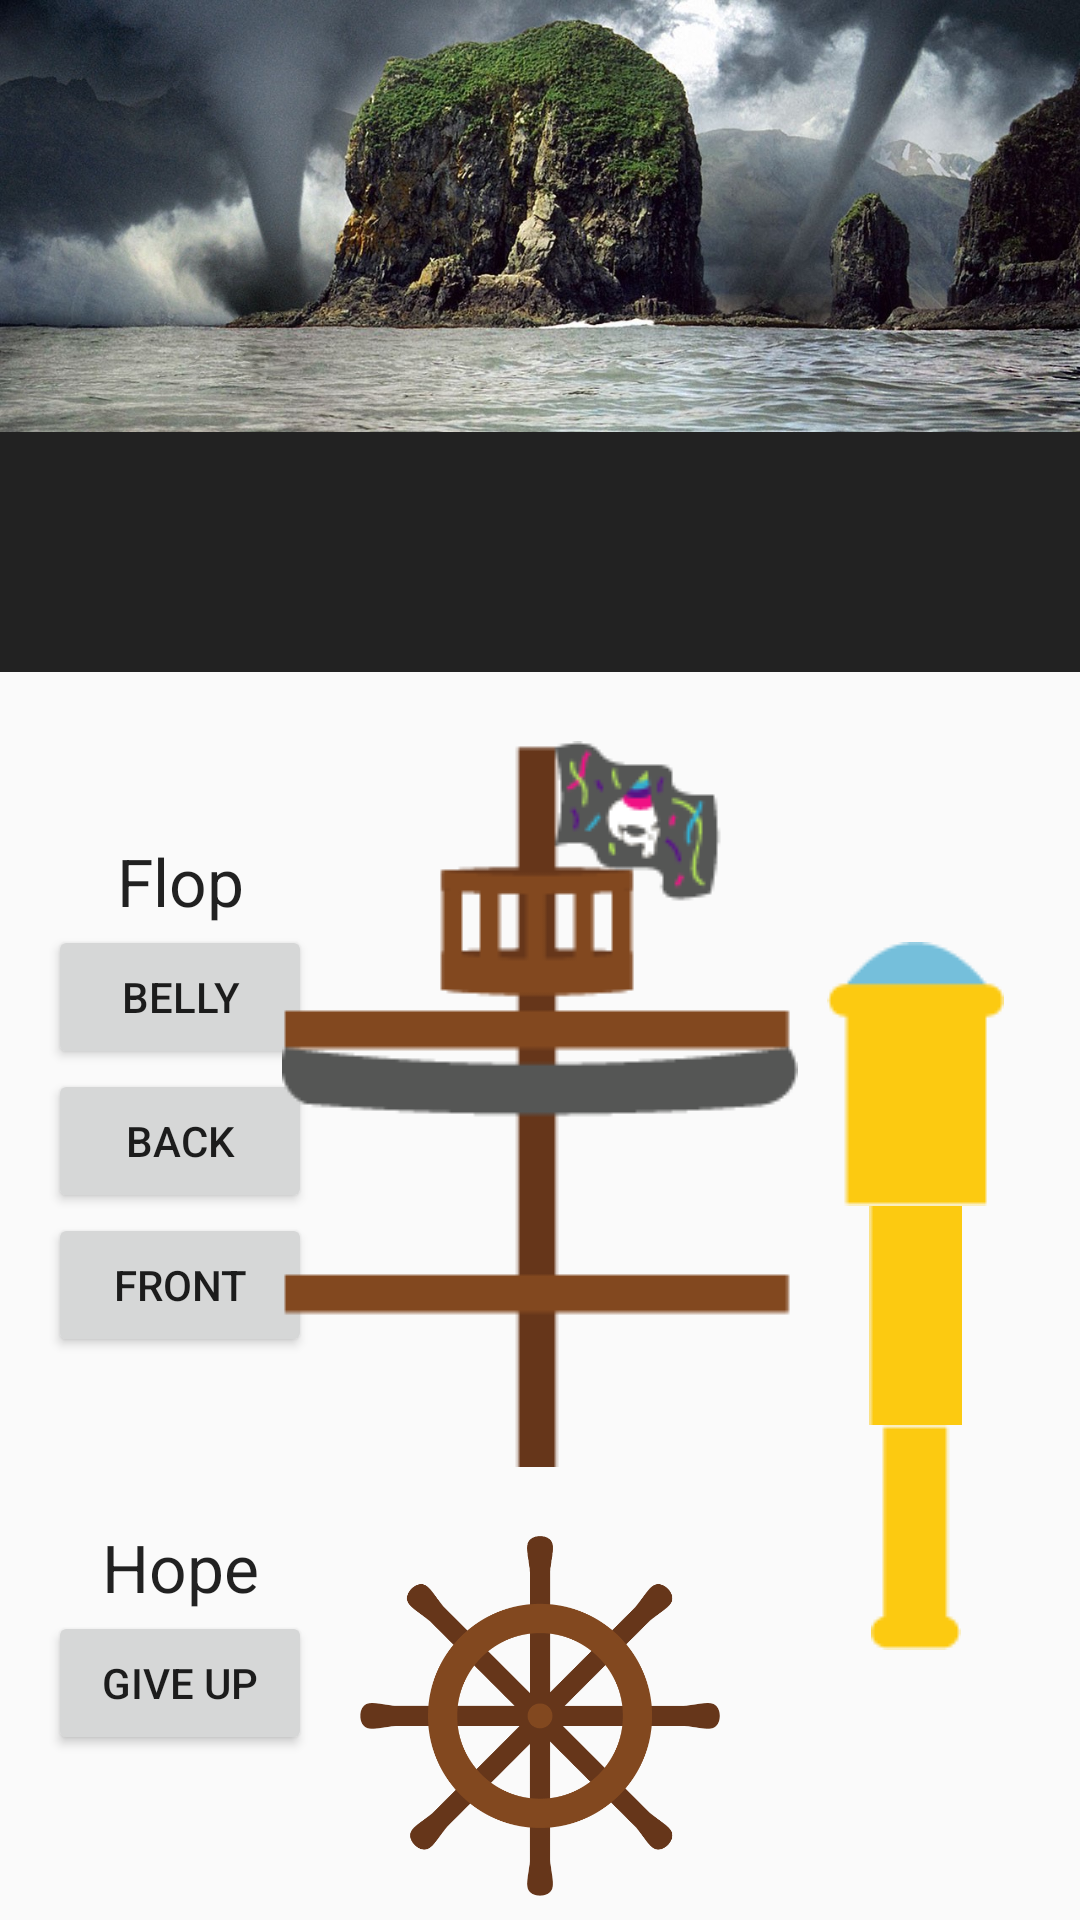

Where to tap for icons on this 1080 x 1920 app screen, as (x=x, y=y):
wheel: (x=540, y=1716)
